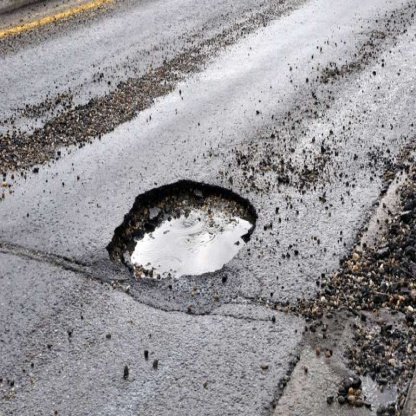pothole: (97, 172, 268, 290)
